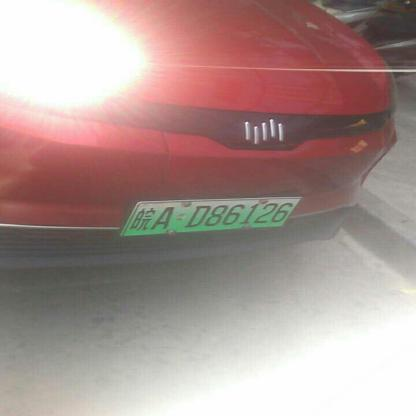lp: (120, 197, 302, 235)
